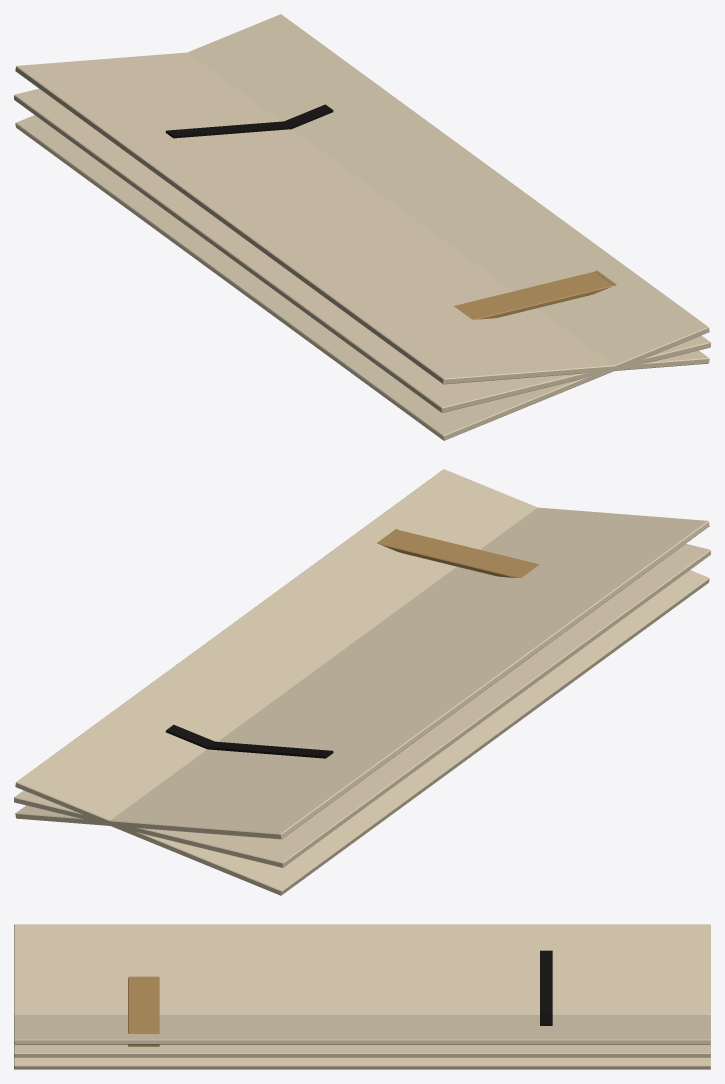
The model's file is roll_slips.glb.
3 views of the same model, one above another, from view 1: azimuth 30°, elevation 25°; view 2: azimuth 150°, elevation 25°; view 3: azimuth 270°, elevation 25° (orthographic). The views are drawn at different scales.
Parts seen in each view (by area): view 1: roll_slips; view 2: roll_slips; view 3: roll_slips.
Part boxes in pixels (<box>): roll_slips: <box>14,14,710,440</box>; roll_slips: <box>14,469,710,895</box>; roll_slips: <box>14,924,710,1069</box>.
Bounding box in the file's own units: 0.04 × 0.00882 × 0.11.
